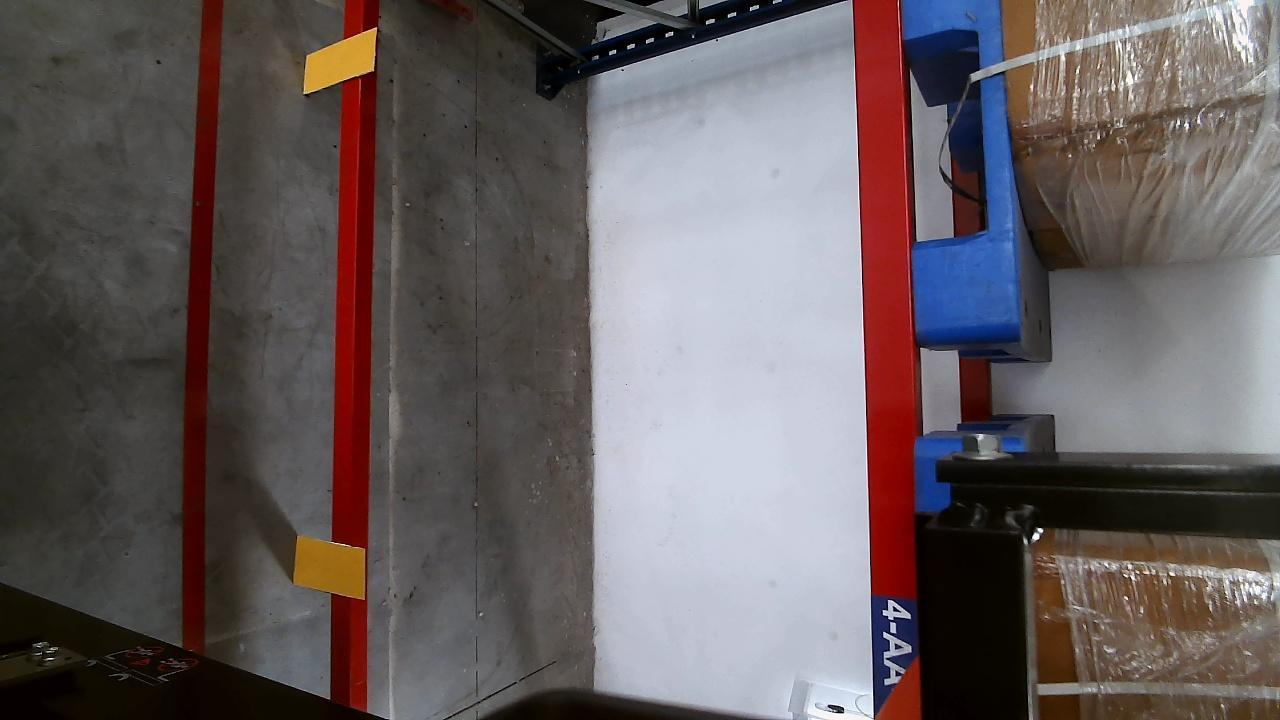h_rack: (851, 1, 920, 720), (332, 1, 365, 706)
orange_strip: (287, 534, 369, 599), (304, 27, 377, 92)
red_line: (176, 0, 227, 652)
small_pallet: (902, 1, 1020, 333)
